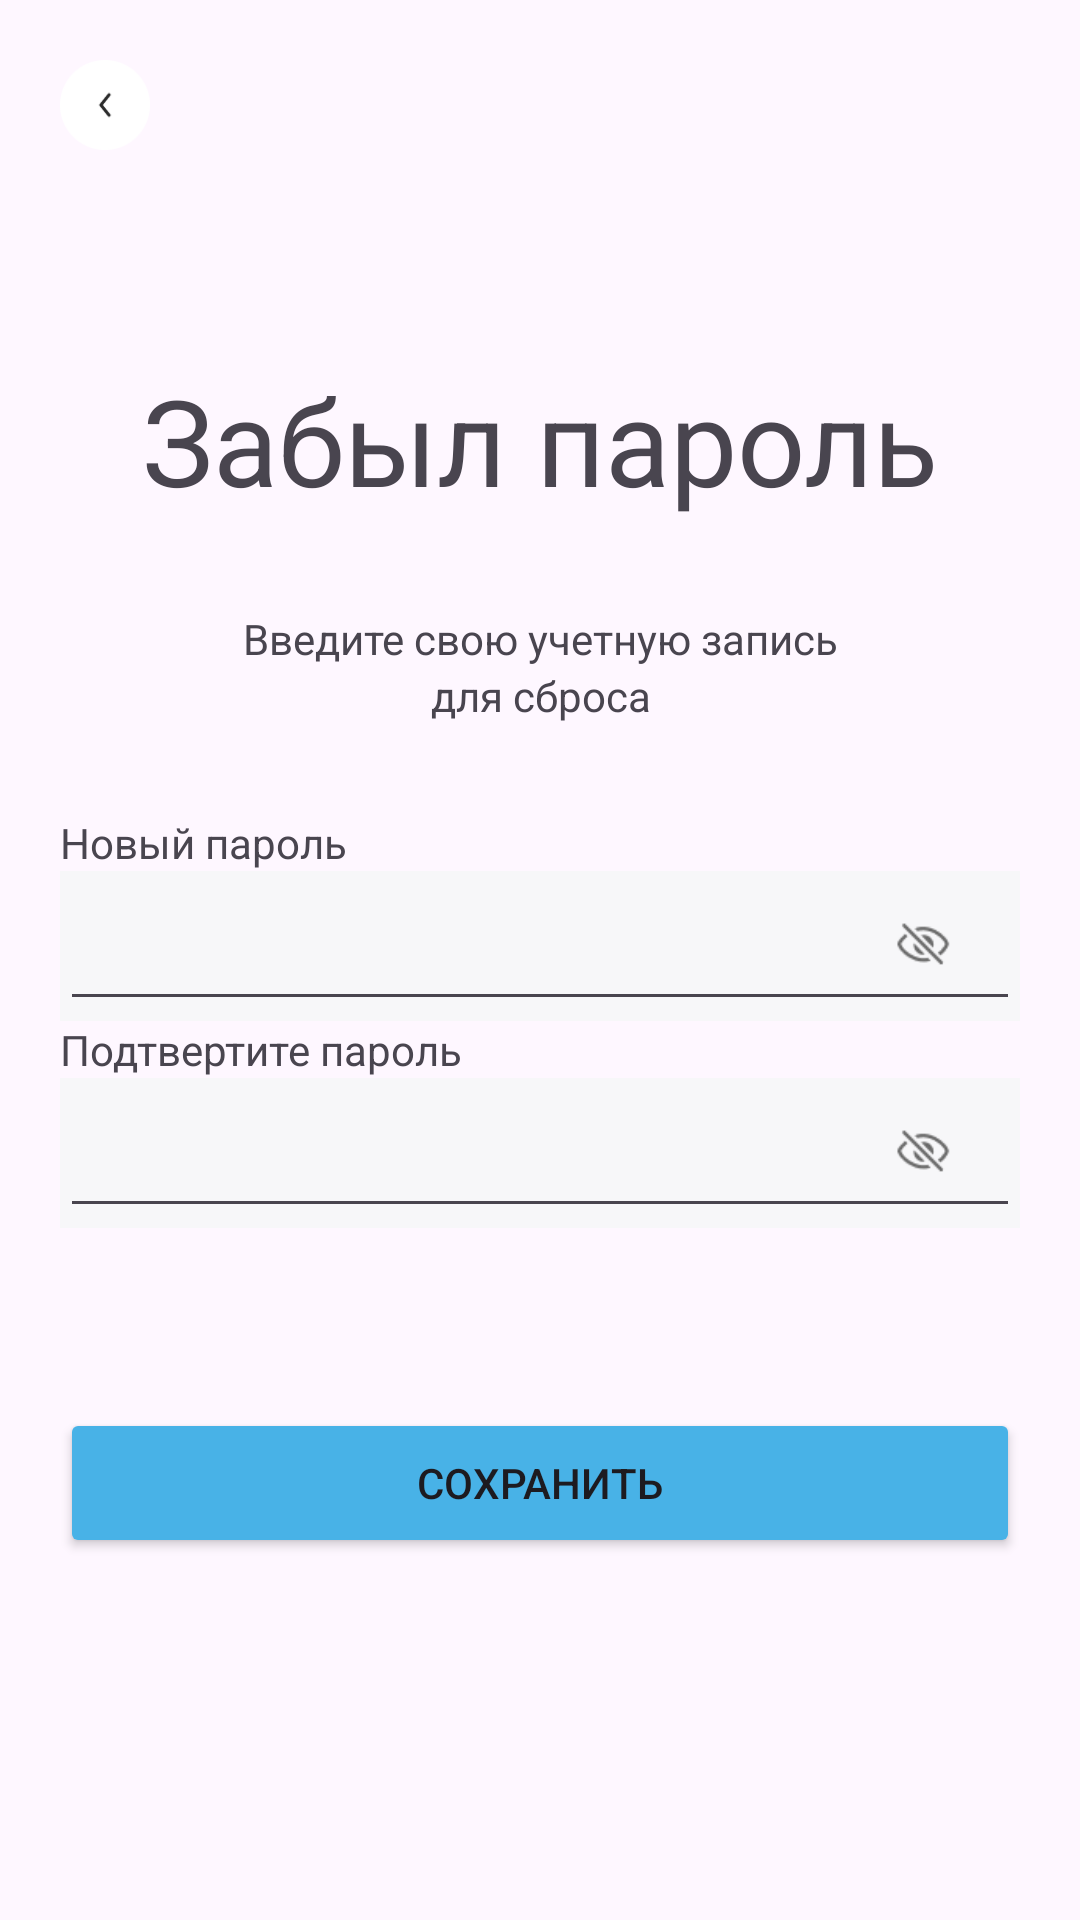

Named icons in this screenshot (1080*1920) and their centers, (x=x, y=y):
backbtnicon: (x=105, y=105)
unvisible: (x=923, y=944), (x=923, y=1151)
